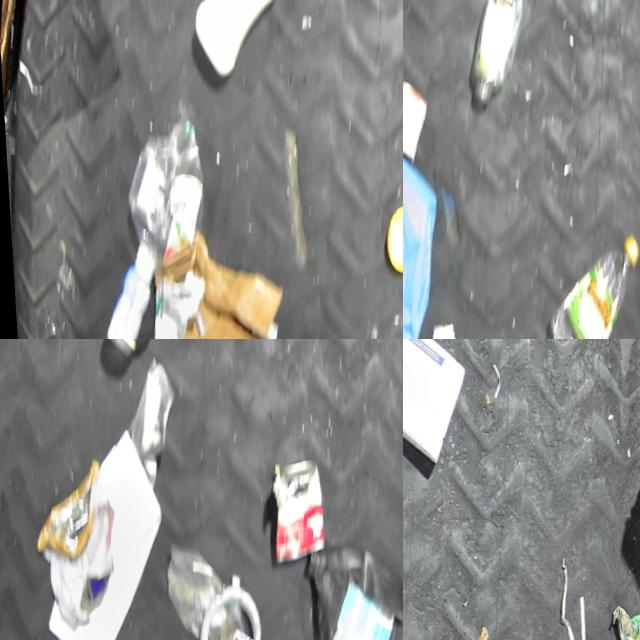can: (16, 449, 125, 634), (527, 225, 640, 339), (261, 454, 332, 574)
non_white_jug: (284, 540, 403, 640)
